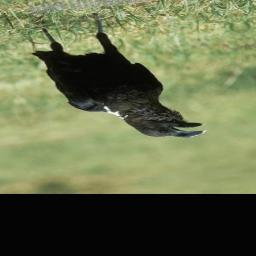Crow: (13, 1, 215, 155)
